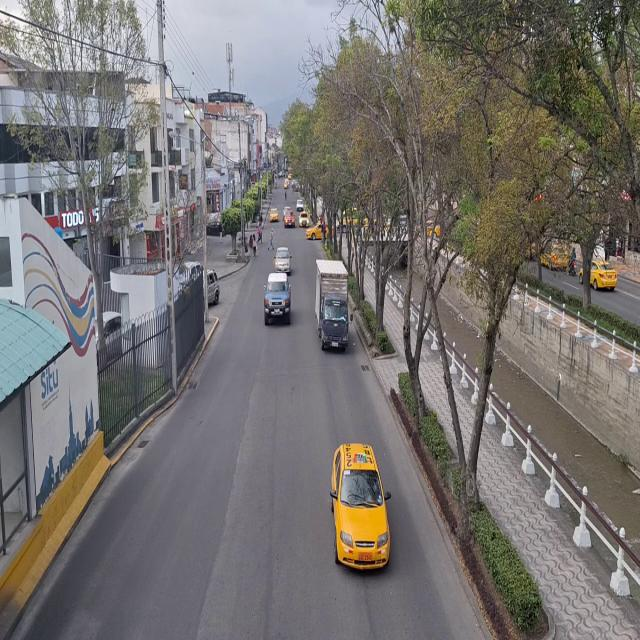SED: (331, 448, 389, 571)
SUV: (265, 274, 291, 322)
TRUCK: (314, 258, 348, 349)
